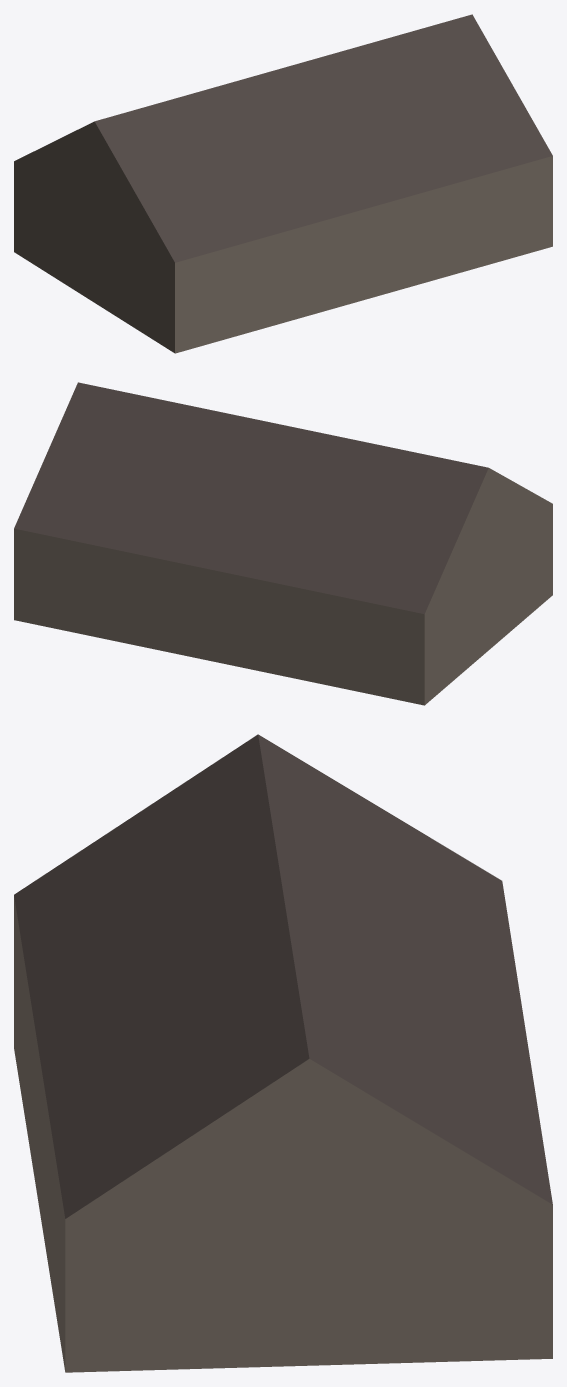
The picture shows the model from 3 angles, top to bottom: view 1: azimuth 30°, elevation 25°; view 2: azimuth 150°, elevation 25°; view 3: azimuth 270°, elevation 25°; orthographic projection. The views are drawn at different scales.
Parts seen in each view (by area): view 1: HP-w428179912; view 2: HP-w428179912; view 3: HP-w428179912.
Boxes of the visible parts, x1,y1,x2,y2 form: HP-w428179912: (14,14,552,353); HP-w428179912: (14,382,552,705); HP-w428179912: (14,734,552,1372).
Size of the model in its own units: 14.18 by 6 by 9.55.
